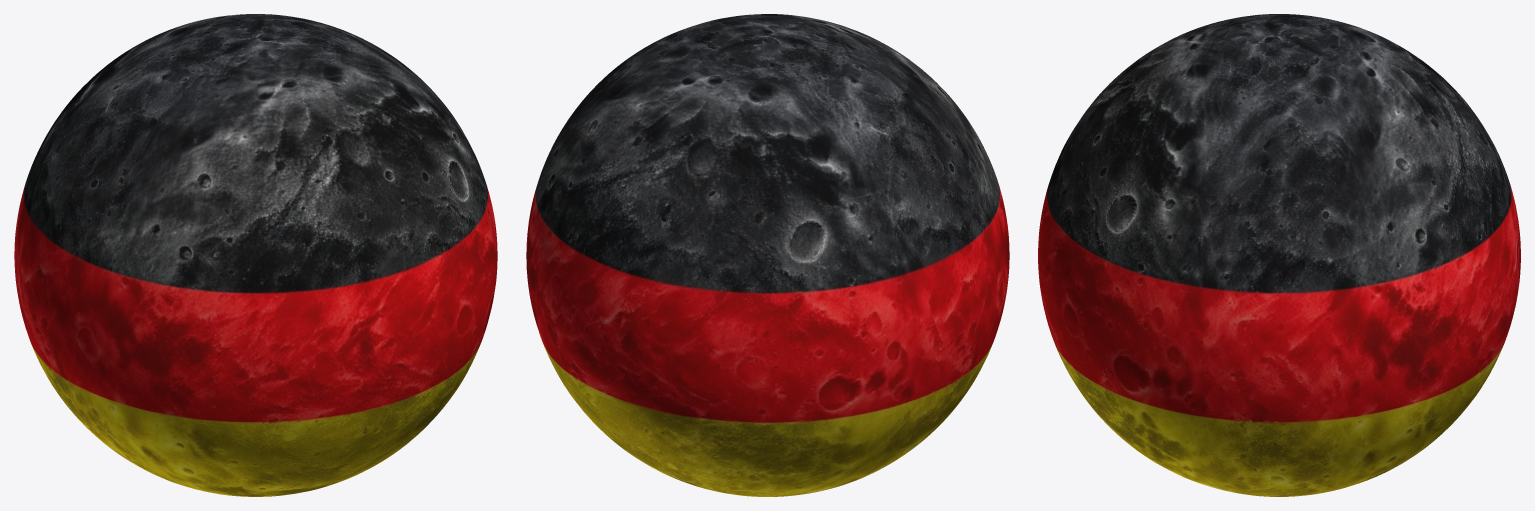
File: planet_germany.glb
3 views of the same model, side by side, from view 1: azimuth 30°, elevation 25°; view 2: azimuth 150°, elevation 25°; view 3: azimuth 270°, elevation 25° (orthographic).
Size of the model in its own units: 1.9 by 1.9 by 1.9.
1 material, 1 textured.
